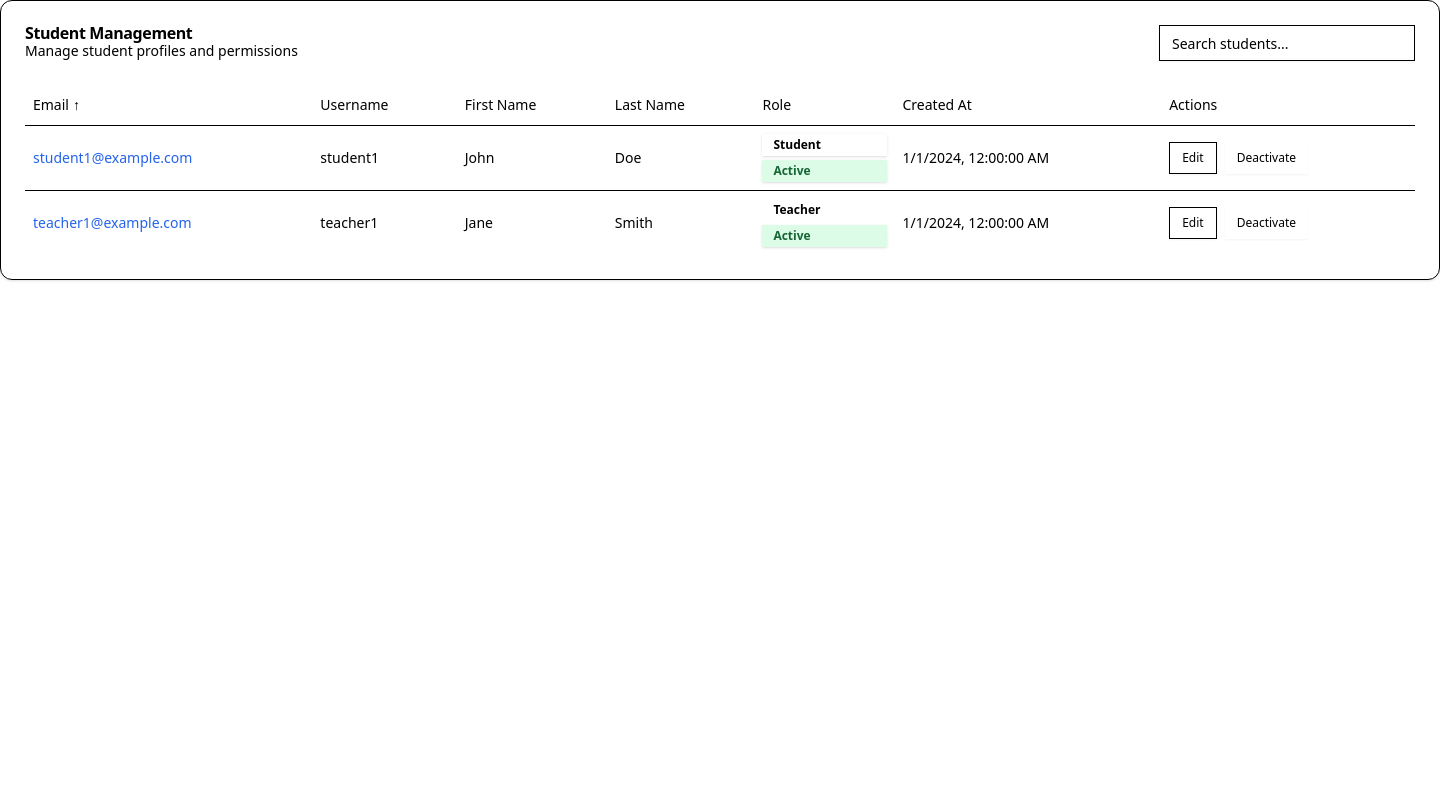
Test: Students User Management › Admin User Management › should open edit modal when edit button is clicked
The image size is (1440, 810).
Click the button "Edit" in the row of "student1@example.com": {"x": 1193, "y": 158} [1169,142,1217,174]
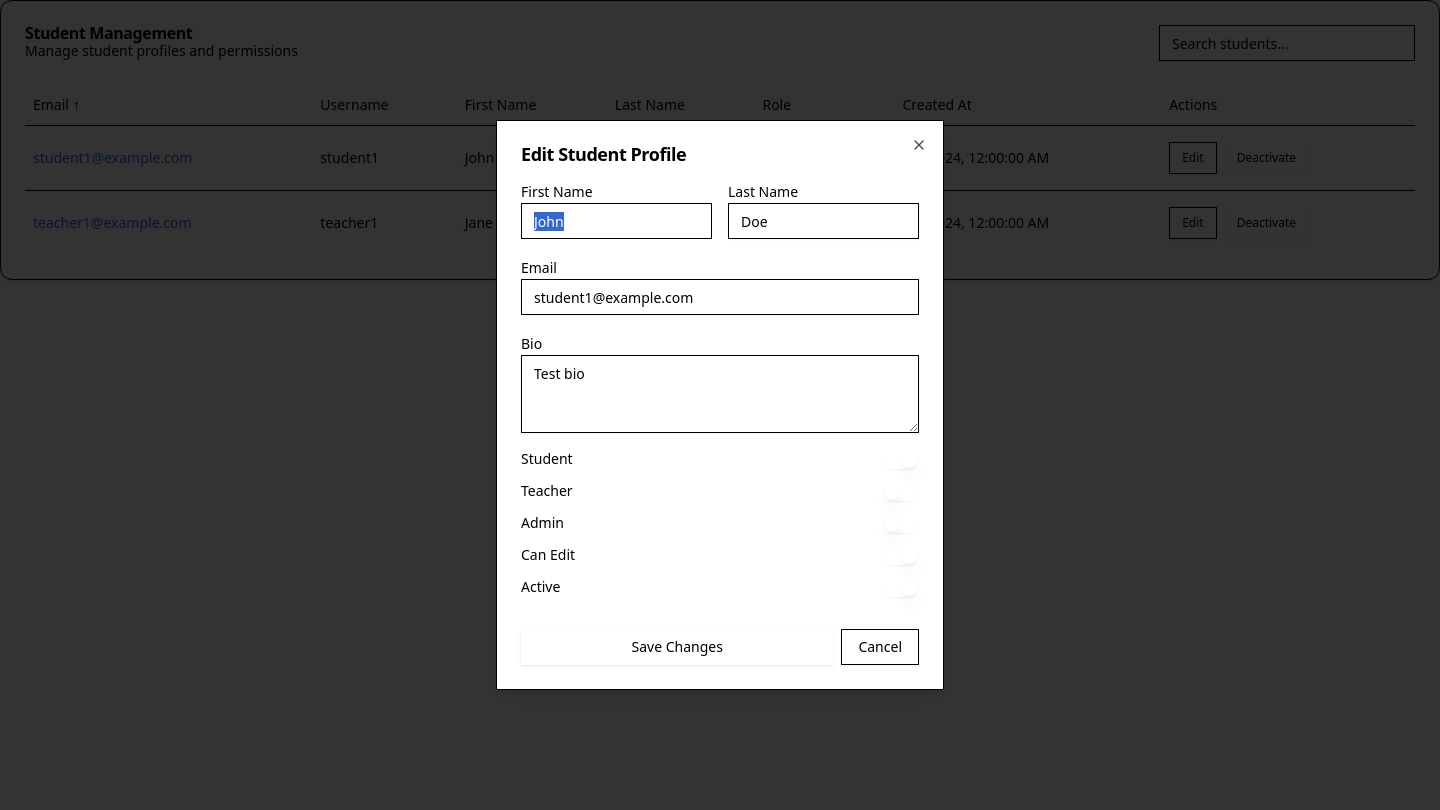
Now the heading "Edit Student Profile" is shown, box [521,142,686,166]
Now the field showing "John" is shown, box [521,203,712,239]
Now the field showing "Doe" is shown, box [728,203,919,239]
